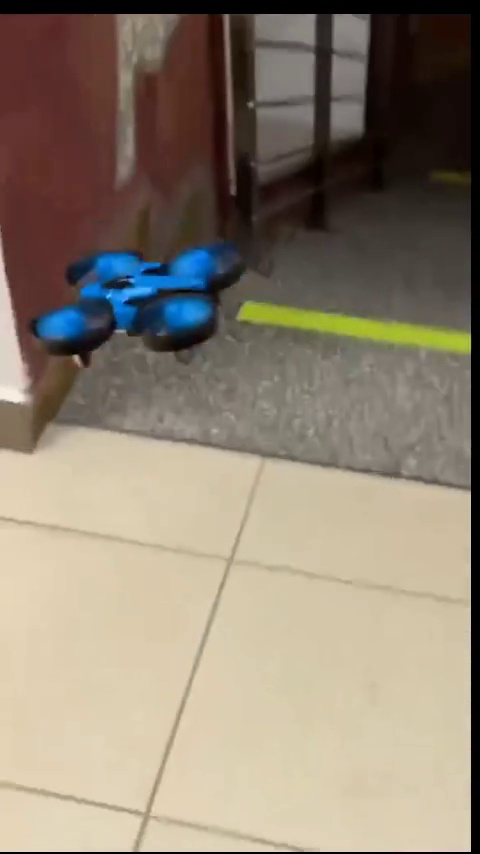drone: (36, 241, 258, 375)
